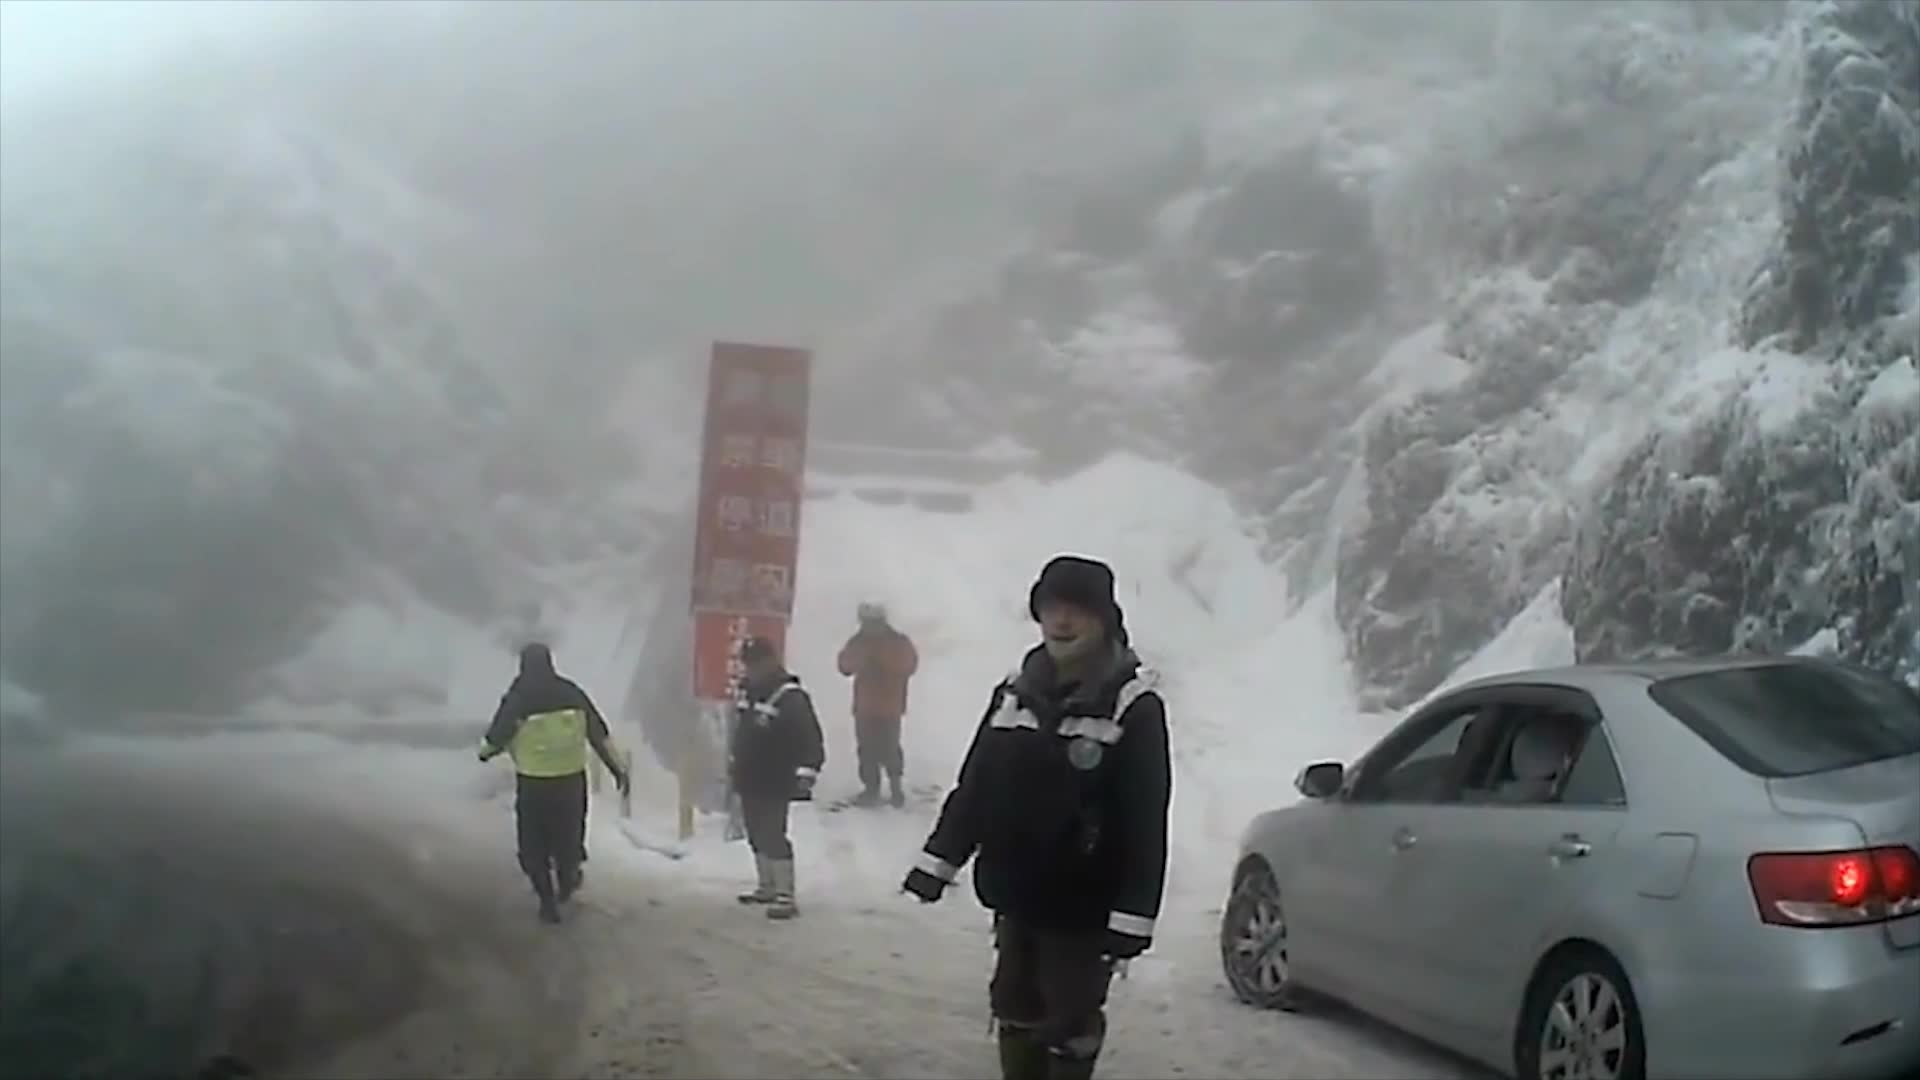pedestrian: (902, 556, 1171, 1080), (480, 648, 635, 928), (731, 638, 831, 915), (839, 605, 924, 808)
vehicle: (1218, 656, 1920, 1080)
